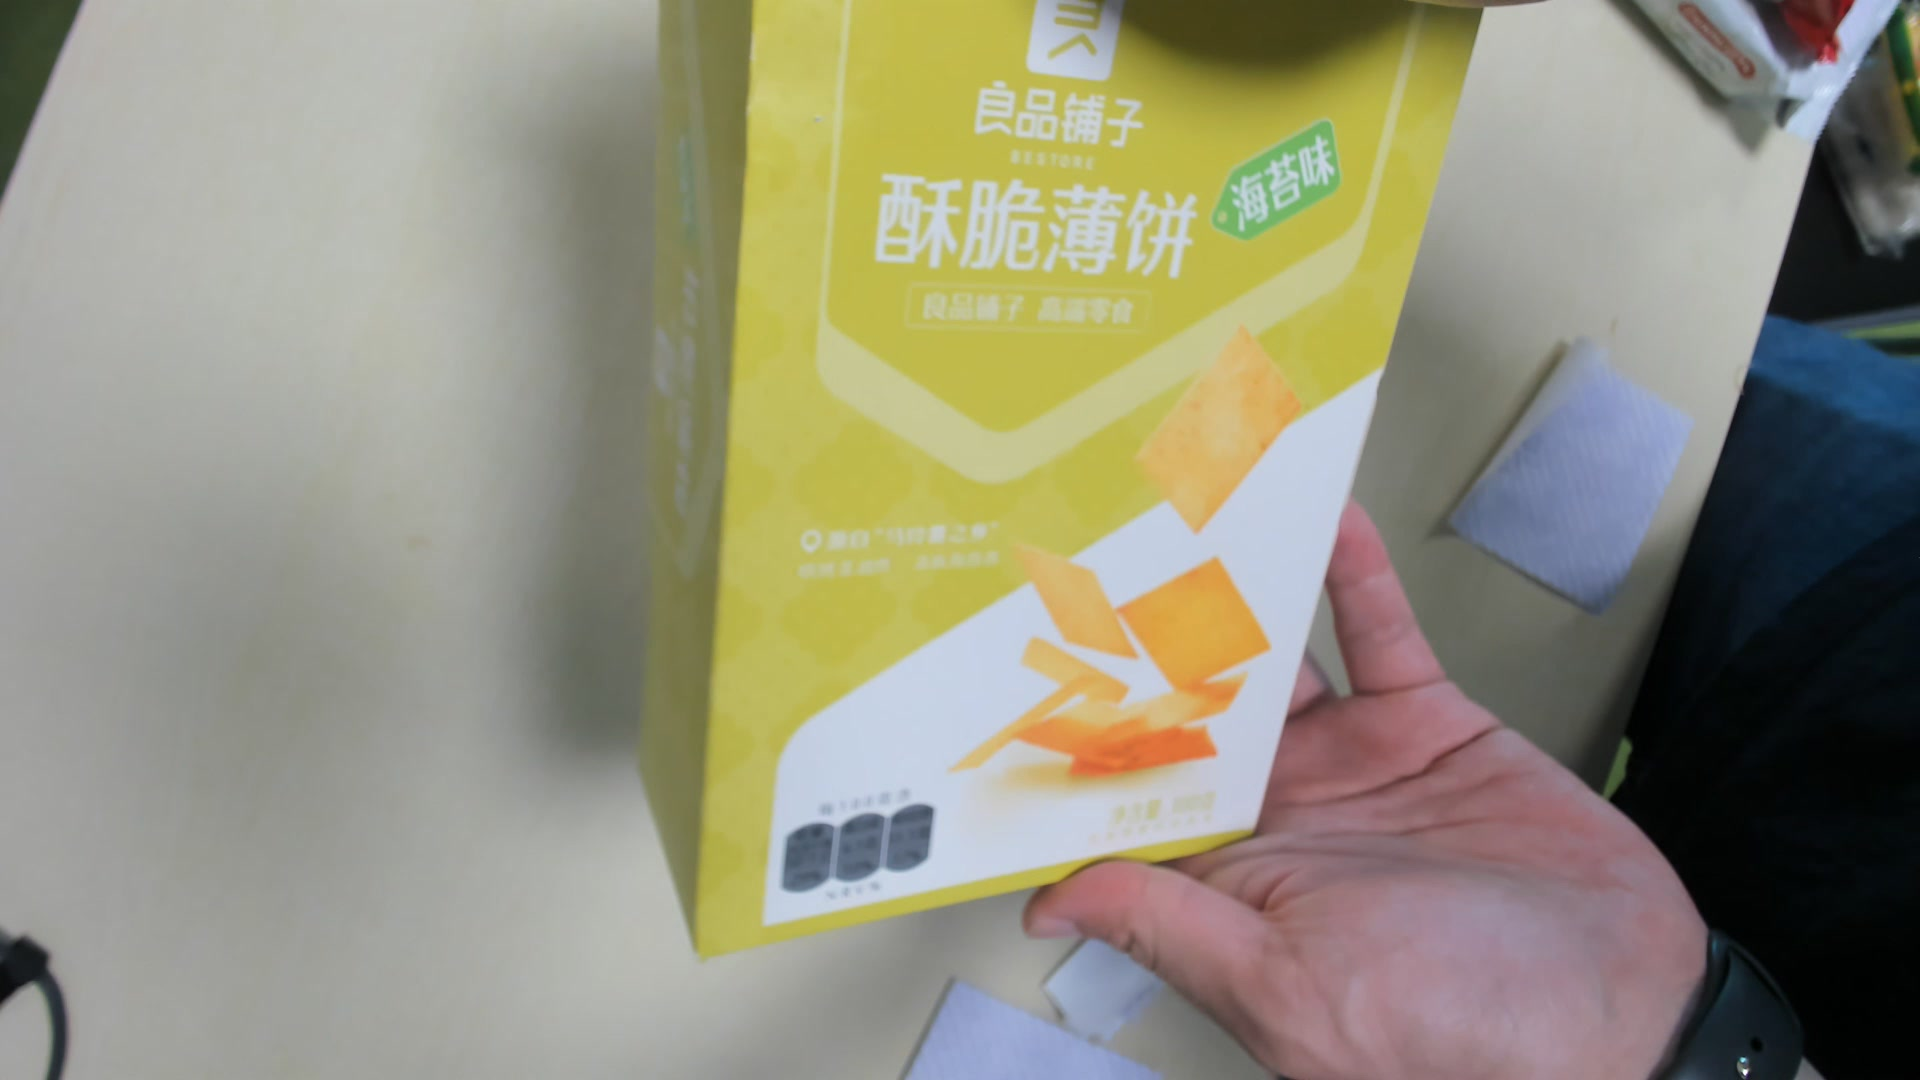BiscuitsCrackersCookies_300-399g_Halal_NonHealthy: (642, 5, 1476, 949)
